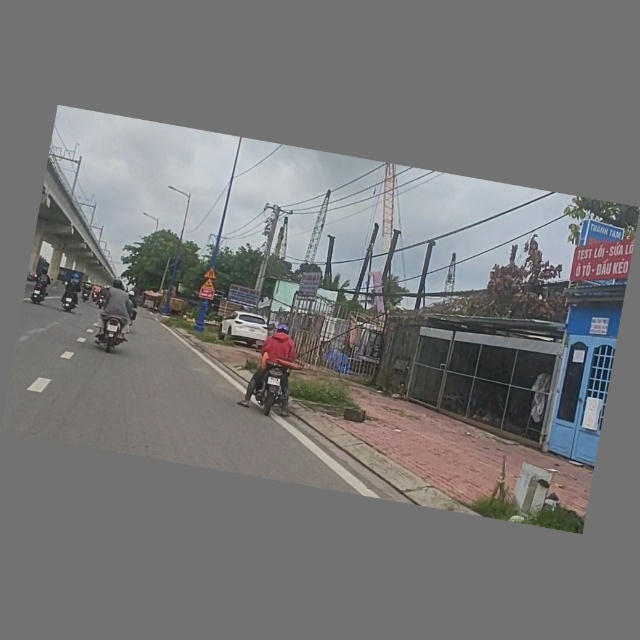W.203c: (204, 266, 220, 281)
W.245a: (201, 277, 217, 291)
